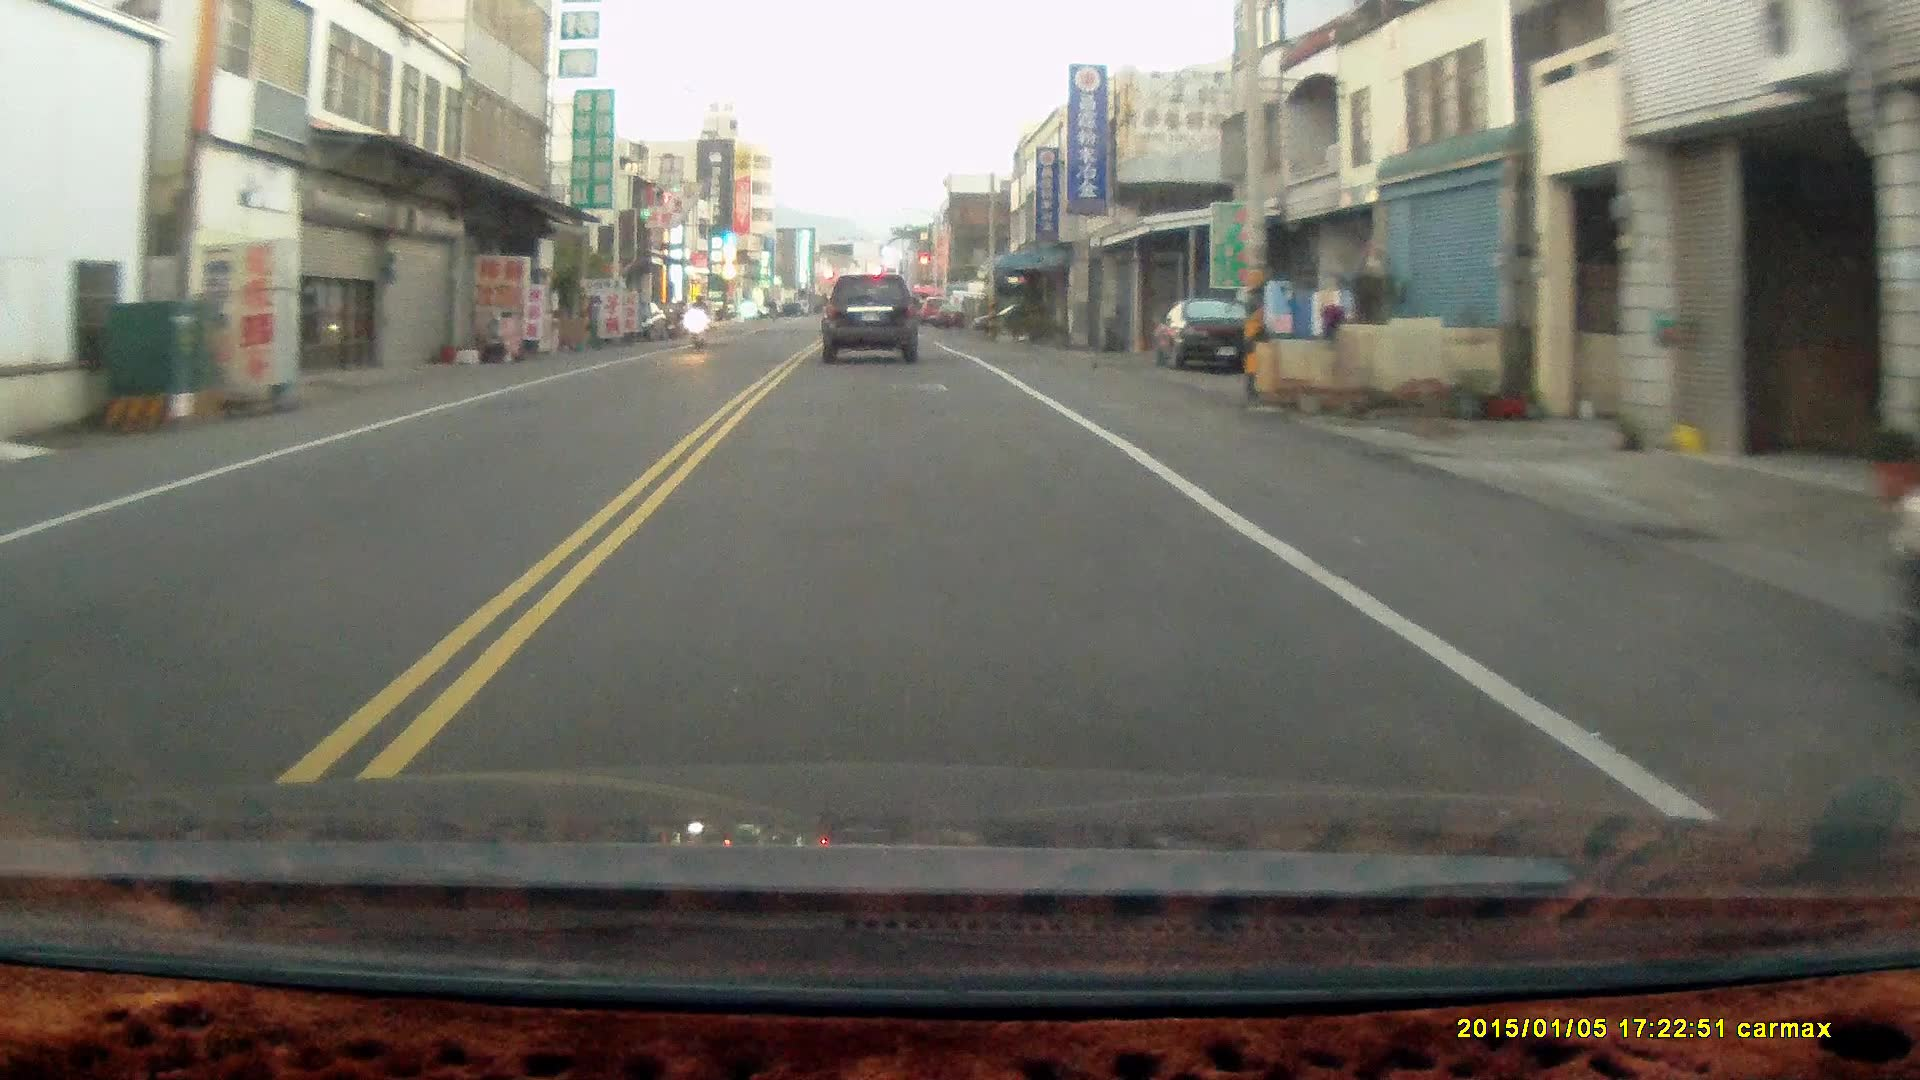rider: (680, 292, 708, 349)
vehicle: (1156, 299, 1273, 378), (823, 276, 923, 367)
